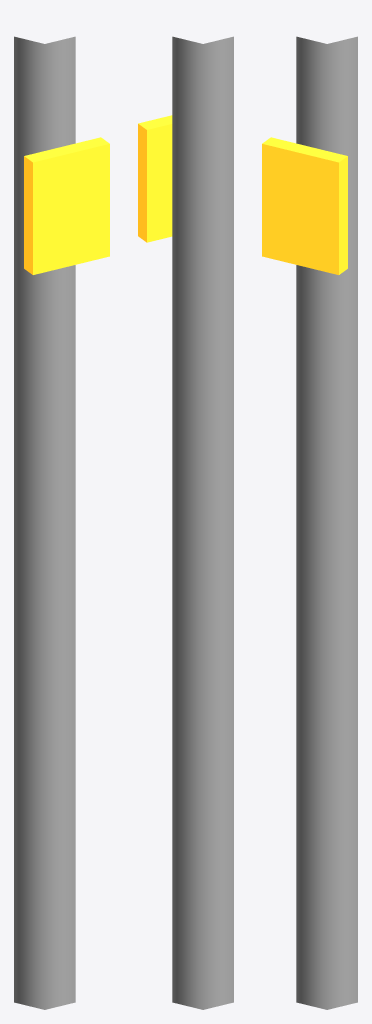
The model's file is reflector_post.glb.
3 views of the same model, side by side, from view 1: azimuth 30°, elevation 25°; view 2: azimuth 210°, elevation 25°; view 3: azimuth 330°, elevation 25° (orthographic).
Parts seen in each view (by area): view 1: reflector_post; view 2: reflector_post; view 3: reflector_post.
Boxes of the visible parts, x1,y1,x2,y2 form: reflector_post: [14, 36, 109, 1009]; reflector_post: [138, 36, 233, 1009]; reflector_post: [262, 36, 357, 1009].
Bounding box in the file's own units: 0.1 × 1.2 × 0.0946.
